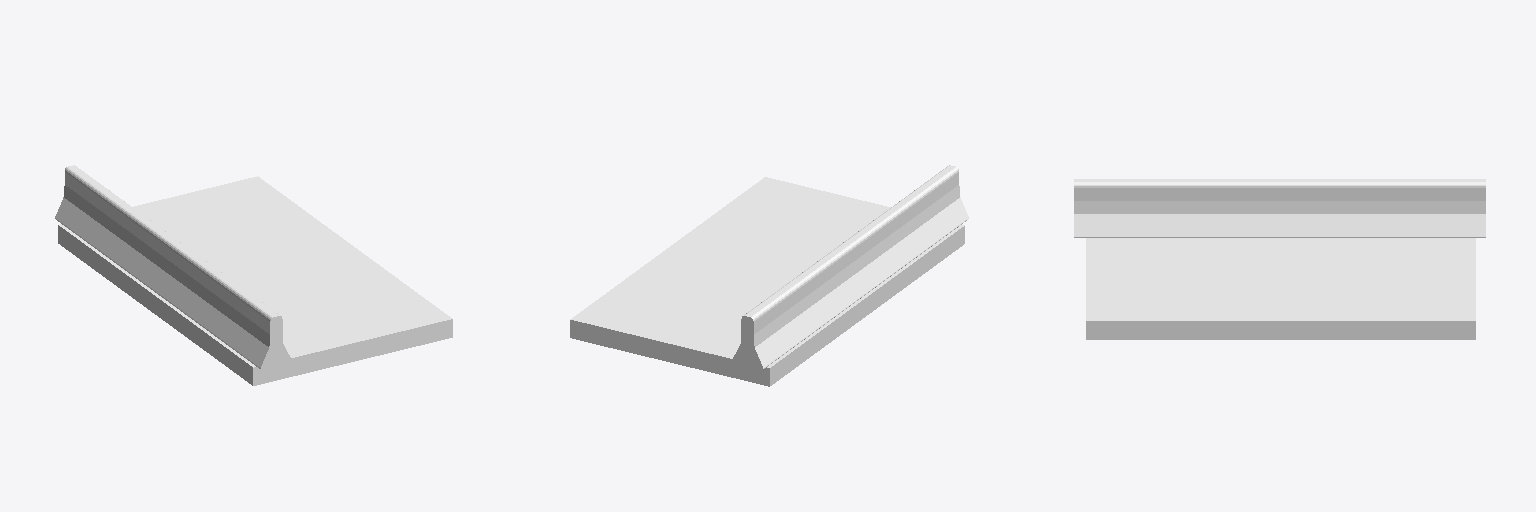
Rendered from road_yellow_line.obj.
The picture shows the model from 3 angles: view 1: azimuth 30°, elevation 25°; view 2: azimuth 150°, elevation 25°; view 3: azimuth 270°, elevation 25°; orthographic projection.
Parts seen in each view (by area): view 1: SM_Env_Road_YellowLines_02_Mesh, Cube_Cube.001; view 2: SM_Env_Road_YellowLines_02_Mesh, Cube_Cube.001; view 3: SM_Env_Road_YellowLines_02_Mesh, Cube_Cube.001.
Part boxes in pixels (left/top/right/bottom): SM_Env_Road_YellowLines_02_Mesh: left=58, top=176, right=452, bottom=385; Cube_Cube.001: left=55, top=165, right=291, bottom=369; SM_Env_Road_YellowLines_02_Mesh: left=570, top=177, right=964, bottom=386; Cube_Cube.001: left=732, top=165, right=968, bottom=369; SM_Env_Road_YellowLines_02_Mesh: left=1086, top=238, right=1475, bottom=339; Cube_Cube.001: left=1074, top=179, right=1485, bottom=237.
Bounding box in the file's own units: 0.0295 × 0.0099 × 0.0527.